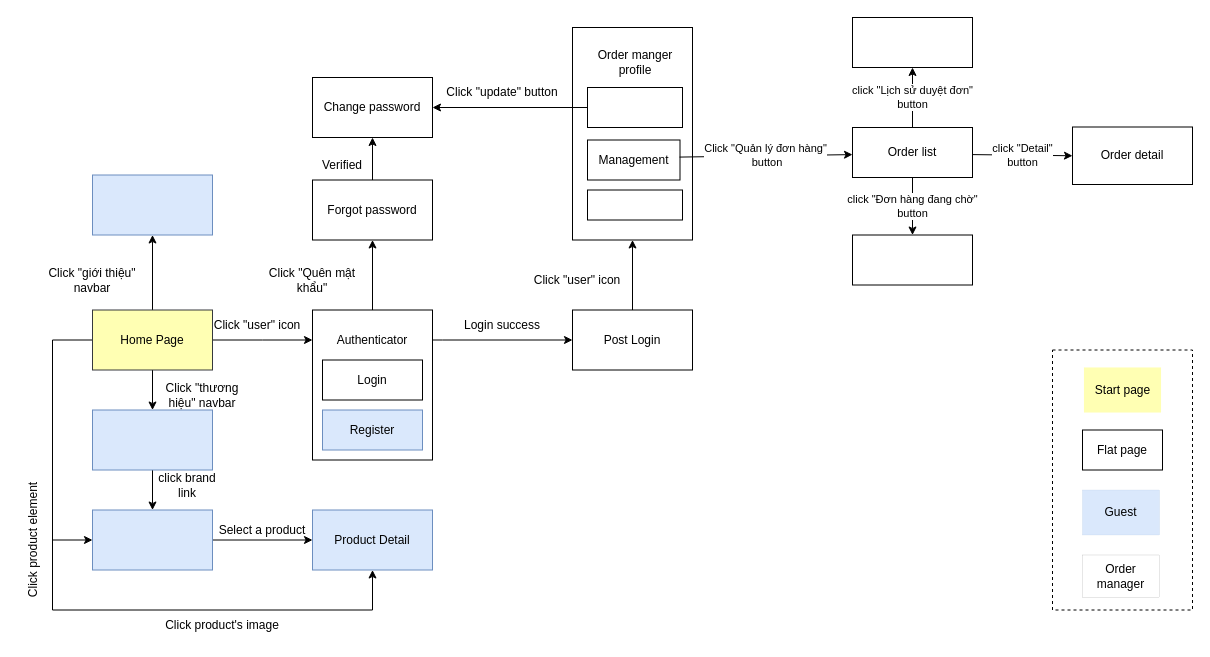
This 1210x657 diagram has some shape labels left out. Here are the shapes that lost their labels. From the top down, the centre of each, then its label:
the point at 912,42: Order approval history
the point at 634,107: Account
the point at 152,204: Introduce
the point at 634,204: Logout
the point at 912,259: Pending order list
the point at 152,439: Brand
the point at 152,539: Product
